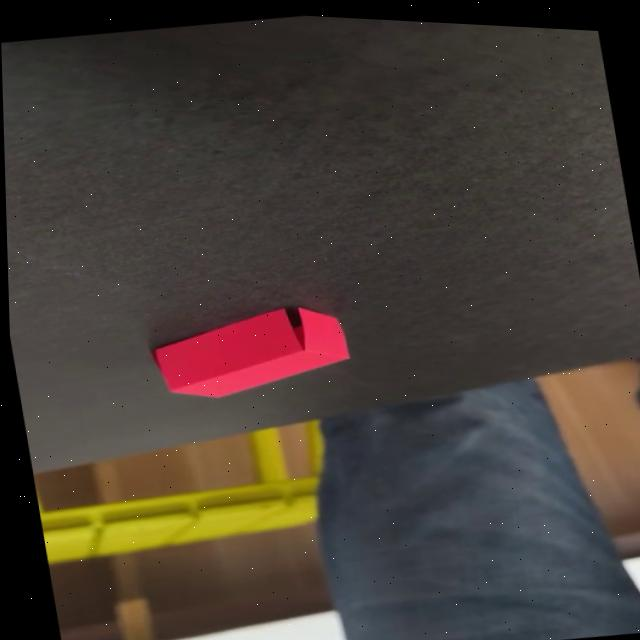red block: (145, 291, 358, 414)
